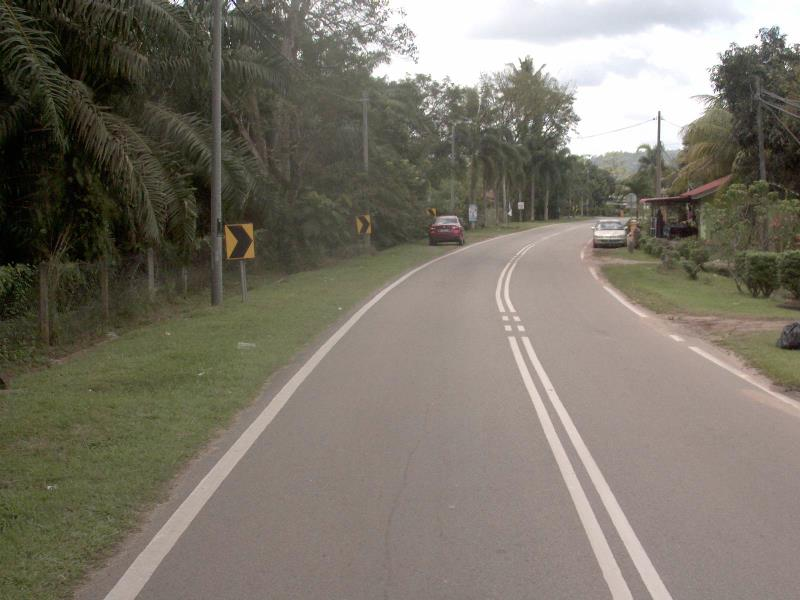traffic_sign: (221, 215, 263, 268)
